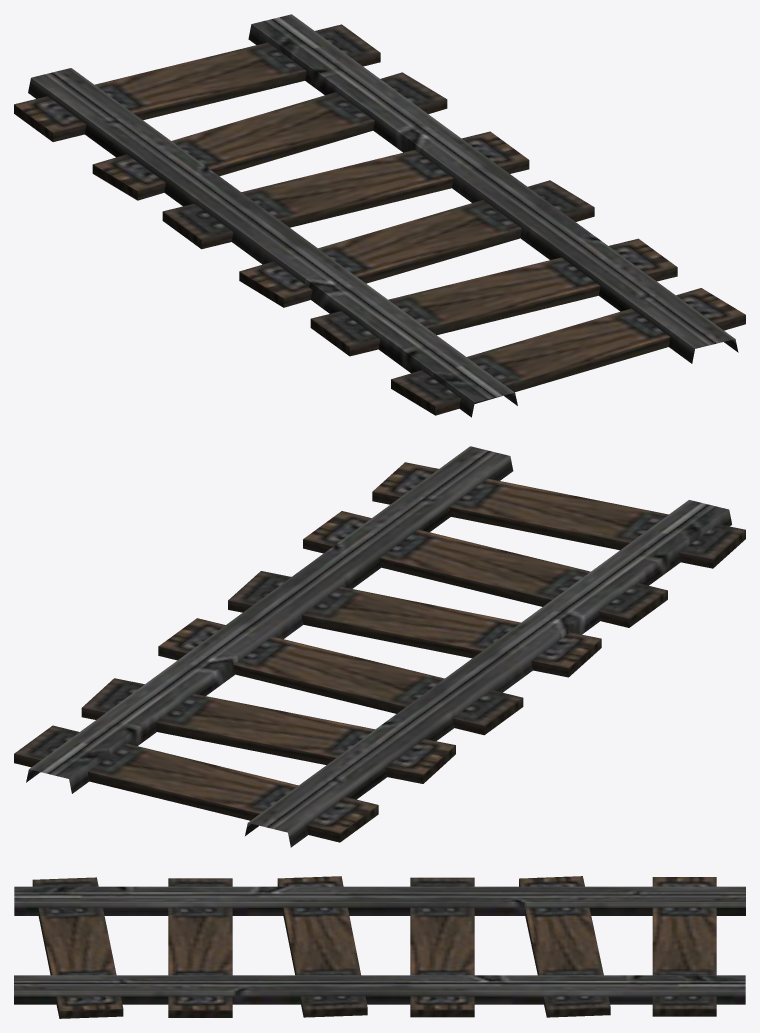
The model's file is Treasure_Rail_02.FBX.
The picture shows the model from 3 angles, top to bottom: view 1: azimuth 30°, elevation 25°; view 2: azimuth 150°, elevation 25°; view 3: azimuth 270°, elevation 25°; orthographic projection. The views are drawn at different scales.
Visible parts, largest first — view 1: Treasure_Rail_02; view 2: Treasure_Rail_02; view 3: Treasure_Rail_02.
Boxes of the visible parts, x1,y1,x2,y2 form: Treasure_Rail_02: (14, 14, 745, 417); Treasure_Rail_02: (14, 446, 745, 847); Treasure_Rail_02: (14, 876, 745, 1018).
Size of the model in its own units: 1.4 by 0.058 by 3.2.
